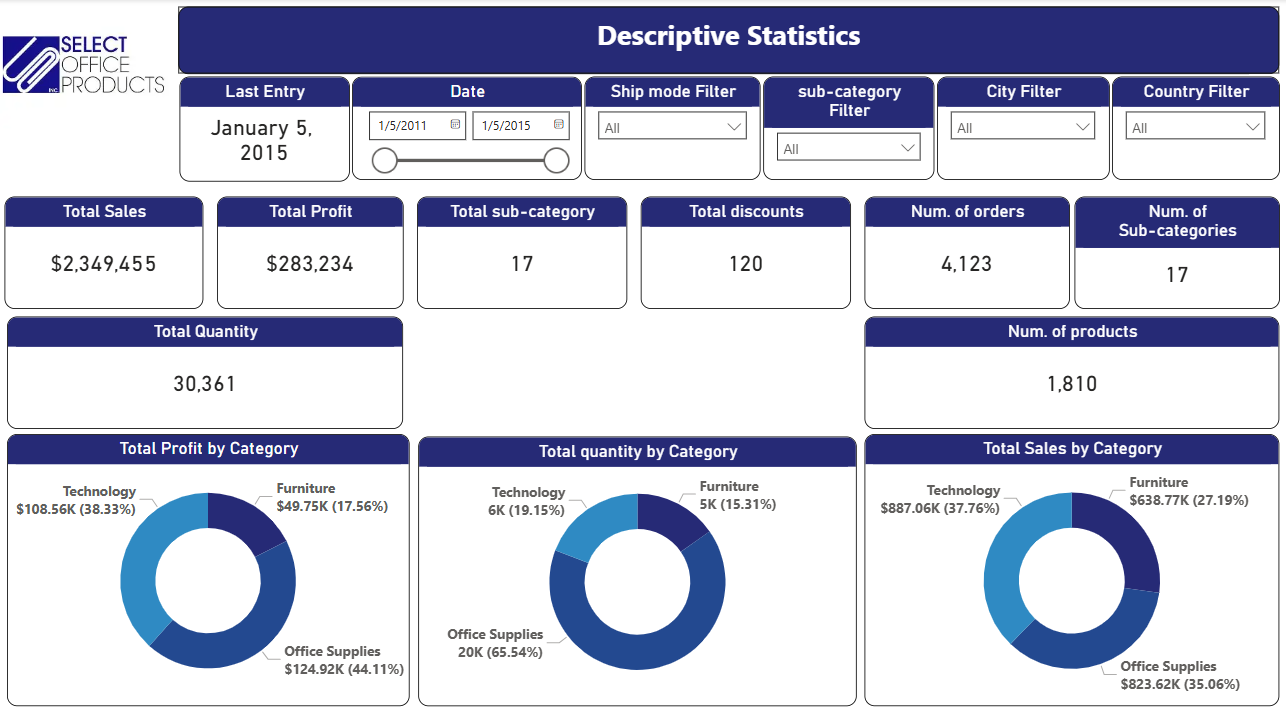

This screenshot's page, from the dashboard's own definition file:
{"tool":"powerbi","page":{"name":"Descriptive Statistics","canvas":[1280,720],"ordinal":0},"visuals":[{"type":"textbox","box":[177.9,7.4,1081,66.3],"z":0},{"type":"image","box":[0,4.9,169.3,122.7],"z":1000},{"type":"slicer","title":"Country Filter","fields":{"Values":["Country.Country"]},"box":[1094.5,76.1,164.4,101.8],"z":2000},{"type":"slicer","title":"City Filter","fields":{"Values":["City.City"]},"box":[922.7,76.1,169.3,101.8],"z":3000},{"type":"slicer","title":"sub-category Filter","fields":{"Values":["Sub-Category.Sub-Category"]},"box":[752.2,76.1,168.1,101.8],"z":4000},{"type":"slicer","title":"Ship mode Filter","fields":{"Values":["Ship Mode.Ship Mode"]},"box":[576.7,76.1,173,101.8],"z":5000},{"type":"slicer","title":"Date","fields":{"Values":["Dim_date.Date"]},"box":[348.5,76.1,225.8,101.8],"z":6000},{"type":"card","title":"Last Entry","fields":{"Values":["Max(Dim_date.Date)"]},"box":[179.1,76.1,166.9,103.1],"z":7000},{"type":"card","title":"Total Sales","fields":{"Values":["_Measures.Total Sales"]},"box":[7.4,193.9,195.1,110.4],"z":8000},{"type":"card","title":"Total Profit","fields":{"Values":["_Measures.Total Profit"]},"box":[216,193.9,182.8,110.4],"z":9000},{"type":"card","title":"Total Quantity","fields":{"Values":["_Measures.Total QTY"]},"box":[9.8,311.7,389,110.4],"z":10000},{"type":"card","title":"Num. of orders","fields":{"Values":["_Measures.Number of orders"]},"box":[851.5,193.9,201.2,110.4],"z":11000},{"type":"card","title":"Num. of Sub-categories","fields":{"Values":["_Measures.Number of sub-categories"]},"box":[1057.7,193.9,201.2,110.4],"z":12000},{"type":"card","title":"Num. of products","fields":{"Values":["_Measures.Number of products"]},"box":[851.5,311.7,407.4,110.4],"z":13000},{"type":"donutChart","fields":{"Y":["_Measures.Total Profit"],"Series":["Category.Category"]},"box":[9.8,427,395.1,267.5],"z":14000},{"type":"donutChart","fields":{"Series":["Category.Category"],"Y":["_Measures.Total Sales"]},"box":[851.5,427,407.4,267.5],"z":15000},{"type":"donutChart","title":"Total quantity  by Category","fields":{"Series":["Category.Category"],"Y":["_Measures.Total QTY"]},"box":[413.5,429.5,430.7,265],"z":16000},{"type":"card","title":"Total sub-category","fields":{"Values":["_Measures.Number of sub-categories"]},"box":[412.3,193.9,206.1,110.4],"z":17000},{"type":"card","title":"Total discounts","fields":{"Values":["_Measures.Total Discount"]},"box":[631.9,193.9,206.1,110.4],"z":18000}]}

Visuals, with their boxes in screenshot pixels (x1, y1, x2, y2), scaled from the page's 1280x720 canvas onto the 1286x710 screenshot:
textbox: (179,7,1265,73)
image: (0,5,170,126)
"Country Filter" slicer: (1100,75,1265,175)
"City Filter" slicer: (927,75,1097,175)
"sub-category Filter" slicer: (756,75,925,175)
"Ship mode Filter" slicer: (579,75,753,175)
"Date" slicer: (350,75,577,175)
"Last Entry" card: (180,75,348,177)
"Total Sales" card: (7,191,203,300)
"Total Profit" card: (217,191,401,300)
"Total Quantity" card: (10,307,401,416)
"Num. of orders" card: (855,191,1058,300)
"Num. of Sub-categories" card: (1063,191,1265,300)
"Num. of products" card: (855,307,1265,416)
donutChart - _Measures.Total Profit x Category.Category: (10,421,407,685)
donutChart - Category.Category x _Measures.Total Sales: (855,421,1265,685)
"Total quantity  by Category" donutChart: (415,424,848,685)
"Total sub-category" card: (414,191,621,300)
"Total discounts" card: (635,191,842,300)
